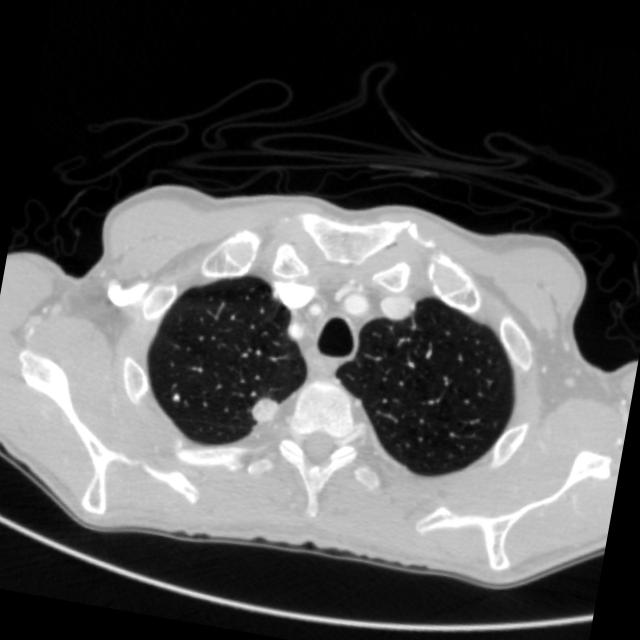nodule: (236, 379, 294, 437)
